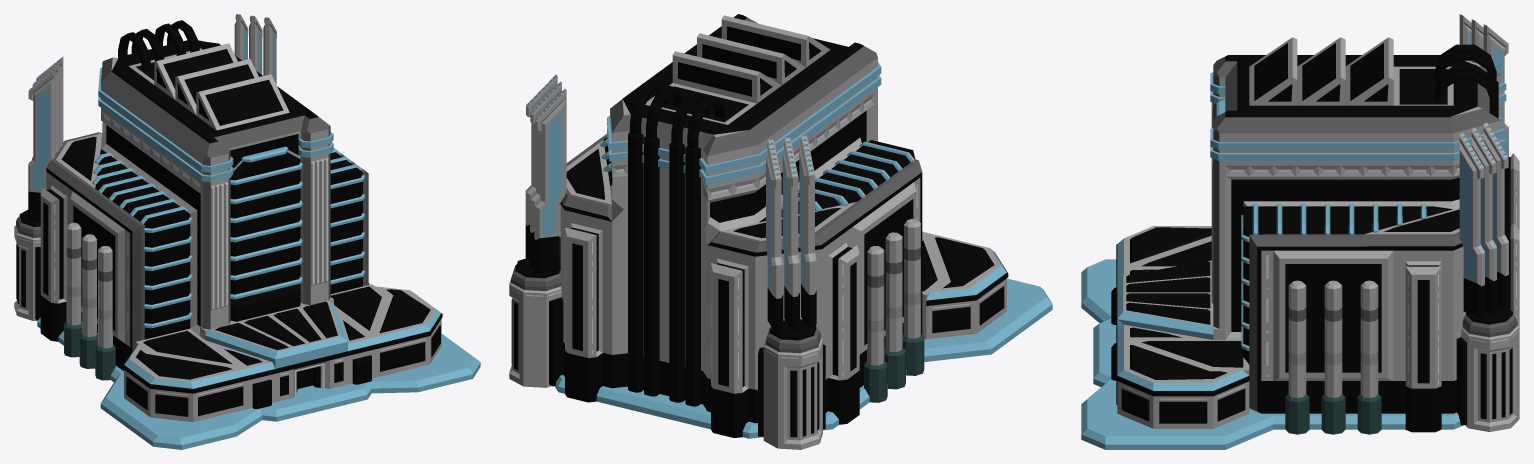
3 views of the same model, side by side, from view 1: azimuth 30°, elevation 25°; view 2: azimuth 150°, elevation 25°; view 3: azimuth 270°, elevation 25° (orthographic). The views are drawn at different scales.
Visible parts, largest first — view 1: BlackColor, SilverColor, PlayerColor, DimGrayColor, WhiteColor, DarkSlateGrayColor, DarkGrayColor; view 2: SilverColor, BlackColor, PlayerColor, DimGrayColor, DarkSlateGrayColor, WhiteColor, DarkGrayColor; view 3: BlackColor, SilverColor, PlayerColor, DimGrayColor, DarkSlateGrayColor, WhiteColor, DarkGrayColor.
Part boxes in pixels (x1,y1,x2,y2): BlackColor: (16,20,442,416); SilverColor: (14,14,441,422); PlayerColor: (29,14,480,449); DimGrayColor: (16,57,368,350); WhiteColor: (14,116,439,395); DarkSlateGrayColor: (64,283,369,380); DarkGrayColor: (66,284,112,319); SilverColor: (509,15,1006,449); BlackColor: (511,14,1008,437); PlayerColor: (526,62,1052,438); DimGrayColor: (511,17,922,353); DarkSlateGrayColor: (864,334,924,402); WhiteColor: (510,99,1003,389); DarkGrayColor: (867,290,920,332); BlackColor: (1111,43,1512,432); SilverColor: (1117,15,1519,431); PlayerColor: (1081,14,1508,449); DimGrayColor: (1213,57,1517,413); DarkSlateGrayColor: (1285,394,1381,434); WhiteColor: (1122,168,1518,399); DarkGrayColor: (1288,351,1378,365).
Size of the model in its own units: 2.52 by 1.94 by 2.55.
